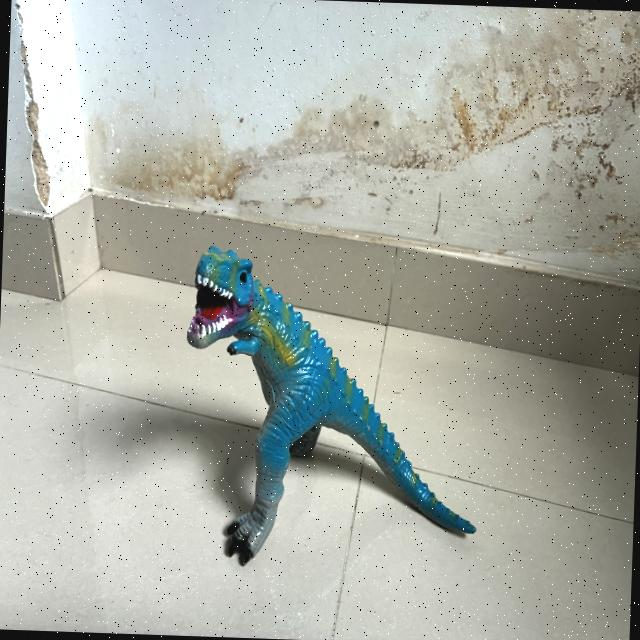dinosaur: (187, 246, 475, 564)
